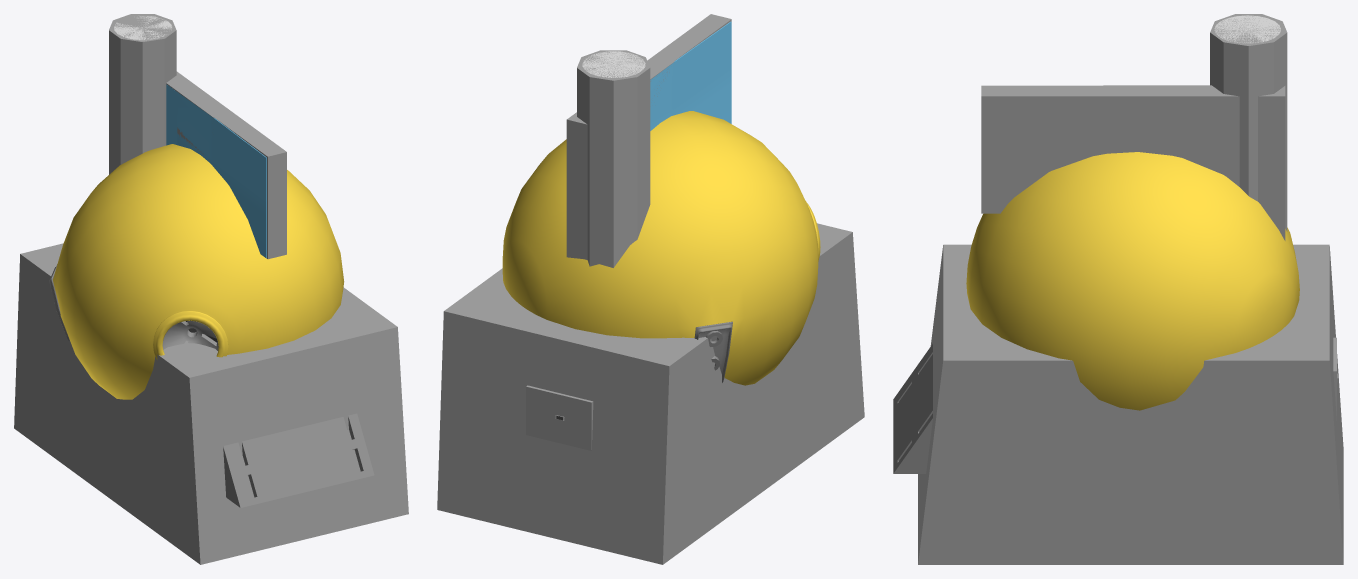
The model's file is Machine_09.fbx.
3 views of the same model, side by side, from view 1: azimuth 30°, elevation 25°; view 2: azimuth 150°, elevation 25°; view 3: azimuth 270°, elevation 25° (orthographic). The views are drawn at different scales.
Visible parts, largest first — view 1: colider_Soba1, power, Base2, colidersoba2, motherboard, Mother1Colider, Mother1Col_der; view 2: colider_Soba1, power, colidersoba2, motherboard, Base2, Mother1Col_der, Mother1Colider; view 3: colider_Soba1, power, Mother1Col_der, Mother1Colider, colidersoba2, Base2.
Part boxes in pixels (box(x1,y1,x2,y2)): colider_Soba1: box(14, 243, 408, 564); power: box(49, 144, 344, 399); Base2: box(114, 16, 374, 507); colidersoba2: box(109, 14, 176, 174); motherboard: box(166, 84, 266, 258); Mother1Colider: box(214, 113, 286, 259); Mother1Col_der: box(166, 71, 233, 159); colider_Soba1: box(437, 223, 864, 564); power: box(502, 111, 820, 385); colidersoba2: box(577, 50, 650, 267); motherboard: box(650, 21, 731, 130); Base2: box(526, 51, 645, 450); Mother1Col_der: box(566, 56, 674, 259); Mother1Colider: box(653, 14, 731, 61); colider_Soba1: box(918, 244, 1343, 564); power: box(966, 152, 1299, 410); Mother1Col_der: box(1103, 85, 1285, 240); Mother1Colider: box(981, 85, 1103, 213); colidersoba2: box(1210, 14, 1287, 231); Base2: box(893, 15, 1337, 473).
Size of the model in its own units: 4.66 by 7.29 by 6.36.
